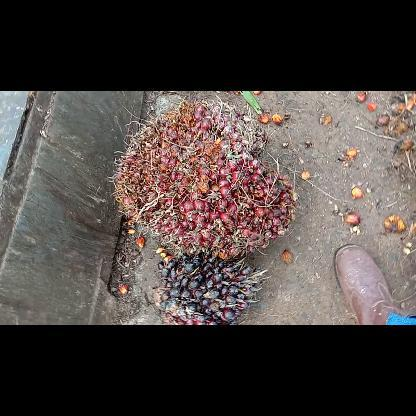TBS abnormal: (151, 258, 271, 324)
TBS masak: (110, 100, 296, 262)
